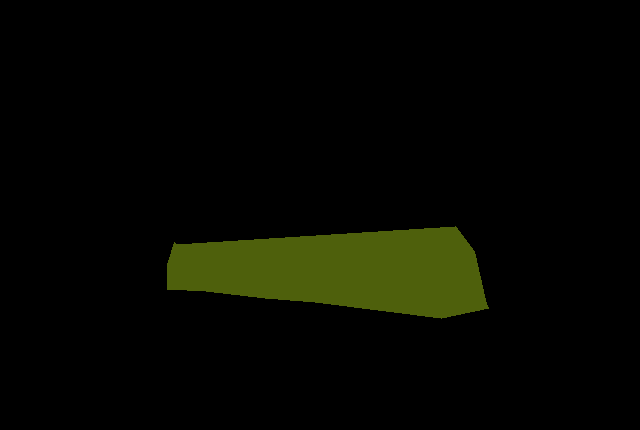Train: (167, 226, 488, 319)
